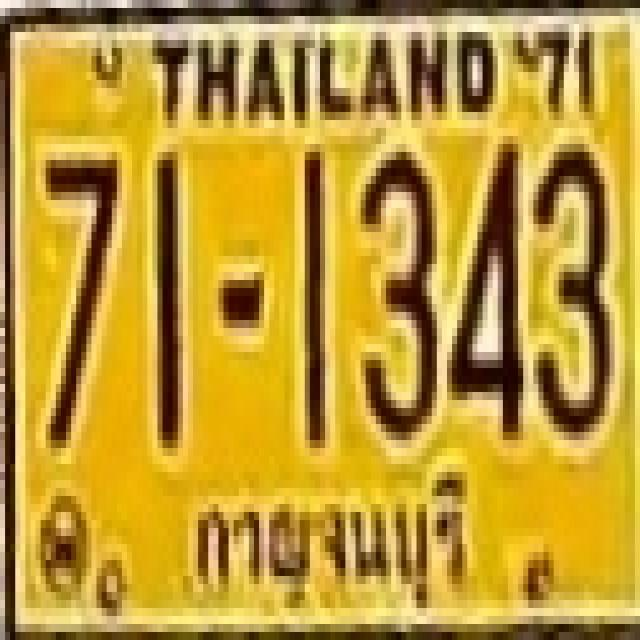1: (152, 148, 178, 444), (302, 144, 323, 448)
3: (531, 136, 607, 432), (358, 144, 434, 432)
4: (447, 136, 518, 432)
7: (40, 152, 116, 440), (40, 152, 116, 352)
KRI: (178, 468, 482, 618)
